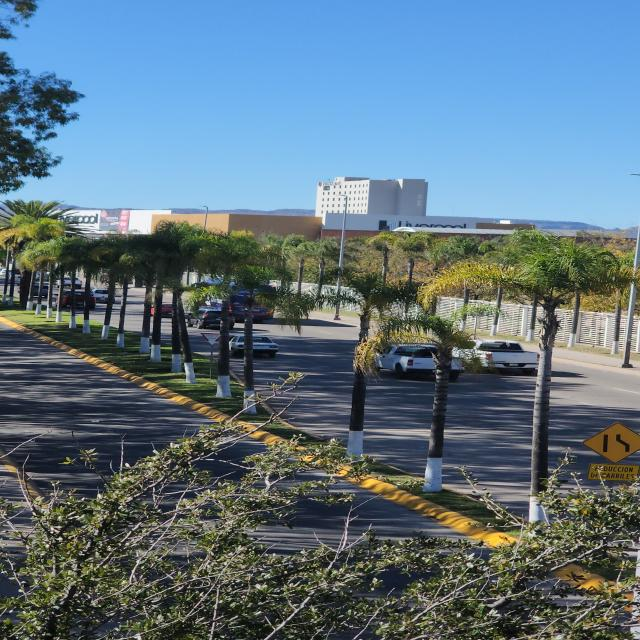Auto: (472, 341, 536, 376), (58, 289, 97, 309)
